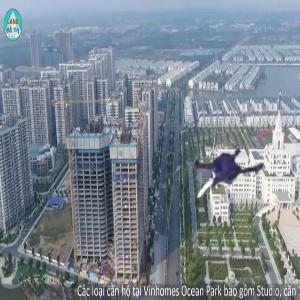drone: (175, 126, 270, 221)
